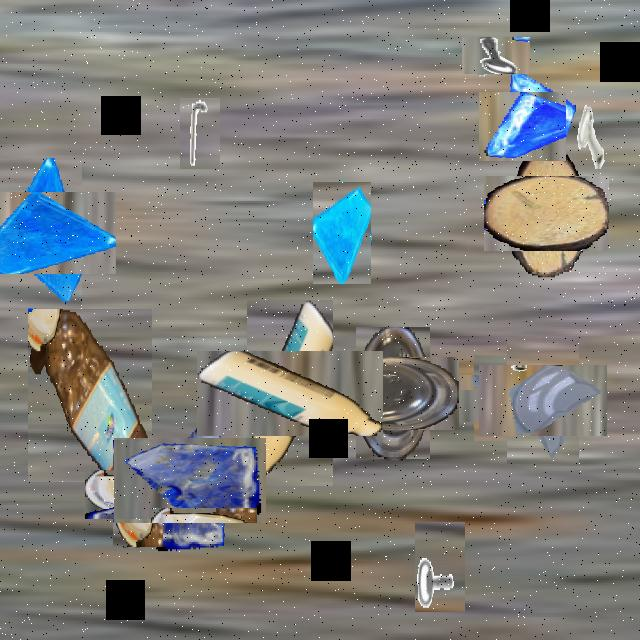glass: (130, 420, 250, 540), (0, 175, 99, 290), (493, 350, 593, 450), (492, 77, 590, 175), (313, 182, 371, 284)
metal: (566, 92, 618, 185), (415, 522, 465, 612), (464, 365, 532, 431), (180, 98, 220, 169), (470, 29, 522, 81)
plastic: (28, 310, 152, 483), (222, 325, 358, 461), (342, 342, 444, 444), (99, 455, 177, 533)
wood: (497, 163, 597, 264)
